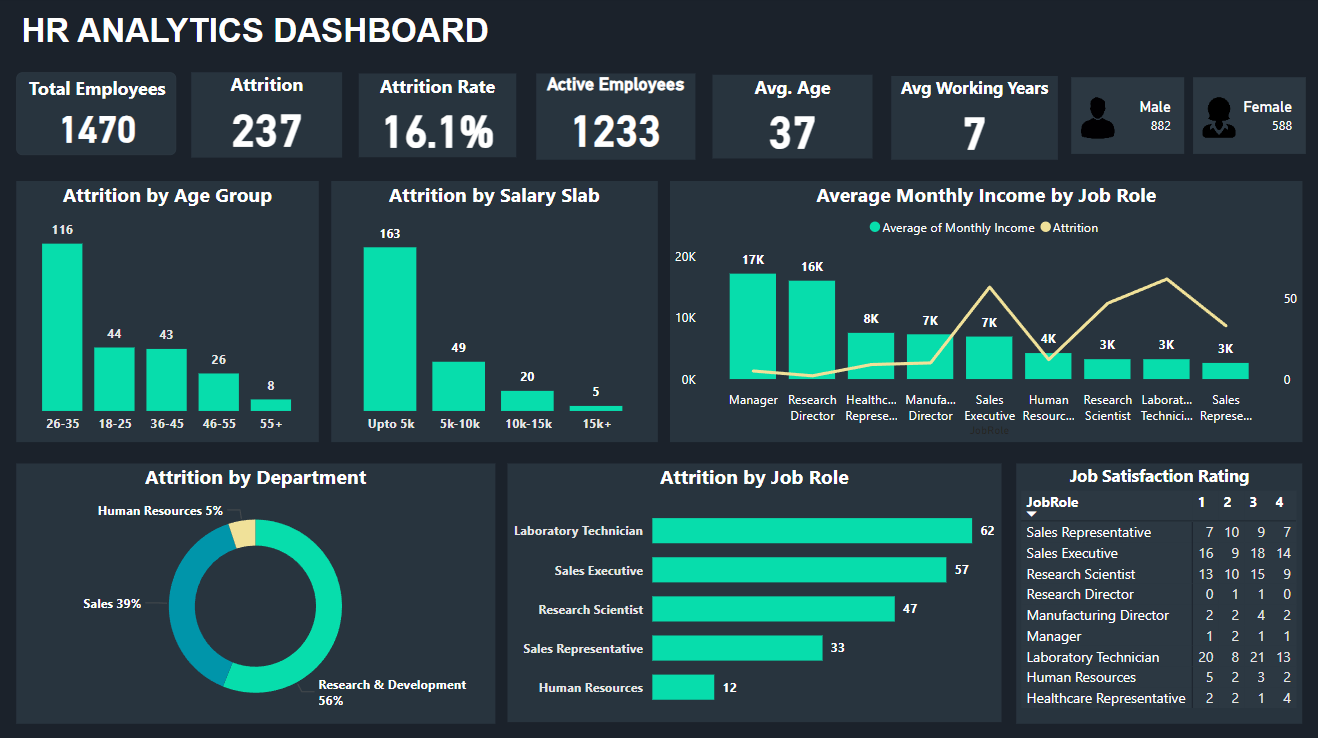

What the dashboard file says about the page in this screenshot:
{"tool":"powerbi","page":{"name":"Attrition Analysis","canvas":[1280,720],"ordinal":0},"visuals":[{"type":"card","title":"Avg.  Age","fields":{"Values":["Avg(HR_Analytics.Age)"]},"box":[692.5,76,154.4,80.8],"z":0},{"type":"card","title":"Total Employees","fields":{"Values":["Sum(HR_Analytics.EmployeeCount)"]},"box":[20.5,73.6,154.4,79.6],"z":1000},{"type":"card","title":"Avg Working Years","fields":{"Values":["Avg(HR_Analytics.YearsAtCompany)"]},"box":[865,77.2,160.5,80.8],"z":2000},{"type":"card","title":"Attrition Rate","fields":{"Values":["HR_Analytics.Attrition rate"]},"box":[351.1,74.8,152,80.8],"z":3000},{"type":"columnChart","title":"Attrition by Age Group","fields":{"Category":["HR_Analytics.AgeGroup"],"Y":["Sum(HR_Analytics.Total Attrition)"]},"box":[20.5,178.6,292,252.1],"z":4000},{"type":"donutChart","title":"Attrition by Department","fields":{"Category":["HR_Analytics.Department"],"Y":["Sum(HR_Analytics.Custom)"]},"box":[20.5,451.2,462.1,250.9],"z":5000},{"type":"advancedSlicerVisual","title":"Total Employees by Gender","fields":{"Values":["HR_Analytics.Gender"]},"box":[1033.9,73.6,236.5,84.5],"z":6000},{"type":"barChart","title":"Attrition by Job Role","fields":{"Y":["Sum(HR_Analytics.Total Attrition)"],"Category":["HR_Analytics.JobRole"]},"box":[494.6,451.2,476.5,249.7],"z":7000},{"type":"columnChart","title":"Attrition by Salary Slab","fields":{"Category":["HR_Analytics.SalarySlab"],"Y":["Sum(HR_Analytics.Total Attrition)"]},"box":[324.5,178.6,314.9,252.1],"z":8000},{"type":"pivotTable","title":"Job Satisfaction Rating","fields":{"Rows":["HR_Analytics.JobRole"],"Columns":["HR_Analytics.JobSatisfaction"],"Values":["Sum(HR_Analytics.Total Attrition)"]},"box":[985.7,451.2,276.3,250.9],"z":9000},{"type":"lineStackedColumnComboChart","title":"Average Monthly Income by Job Role","fields":{"Category":["HR_Analytics.JobRole"],"Y":["Avg(HR_Analytics.MonthlyIncome)"],"Y2":["Sum(HR_Analytics.Total Attrition)"]},"box":[651.5,178.6,610.5,252.1],"z":10000},{"type":"card","title":"Attrition","fields":{"Values":["Sum(HR_Analytics.Custom)"]},"box":[189.4,73.6,146,82],"z":11000},{"type":"card","title":"Active Employees","fields":{"Values":["HR_Analytics.Active Employees"]},"box":[522.4,74.8,153.2,83.2],"z":12000},{"type":"textbox","box":[20.5,10.9,707,62.7],"z":13000},{"type":"image","box":[1033.8,92.5,60,50],"z":14000},{"type":"image","box":[1156.9,86.2,49.4,62.5],"z":15000}]}

Visuals, with their boxes in screenshot pixels (x1, y1, x2, y2), scaled from the page's 1280x720 canvas onto the 1318x738 screenshot:
"Avg.  Age" card: bbox(713, 78, 872, 161)
"Total Employees" card: bbox(21, 75, 180, 157)
"Avg Working Years" card: bbox(891, 79, 1056, 162)
"Attrition Rate" card: bbox(362, 77, 518, 159)
"Attrition by Age Group" columnChart: bbox(21, 183, 322, 441)
"Attrition by Department" donutChart: bbox(21, 462, 497, 720)
"Total Employees by Gender" advancedSlicerVisual: bbox(1065, 75, 1308, 162)
"Attrition by Job Role" barChart: bbox(509, 462, 1000, 718)
"Attrition by Salary Slab" columnChart: bbox(334, 183, 658, 441)
"Job Satisfaction Rating" pivotTable: bbox(1015, 462, 1299, 720)
"Average Monthly Income by Job Role" lineStackedColumnComboChart: bbox(671, 183, 1299, 441)
"Attrition" card: bbox(195, 75, 345, 159)
"Active Employees" card: bbox(538, 77, 696, 162)
textbox: bbox(21, 11, 749, 75)
image: bbox(1064, 95, 1126, 146)
image: bbox(1191, 88, 1242, 152)
